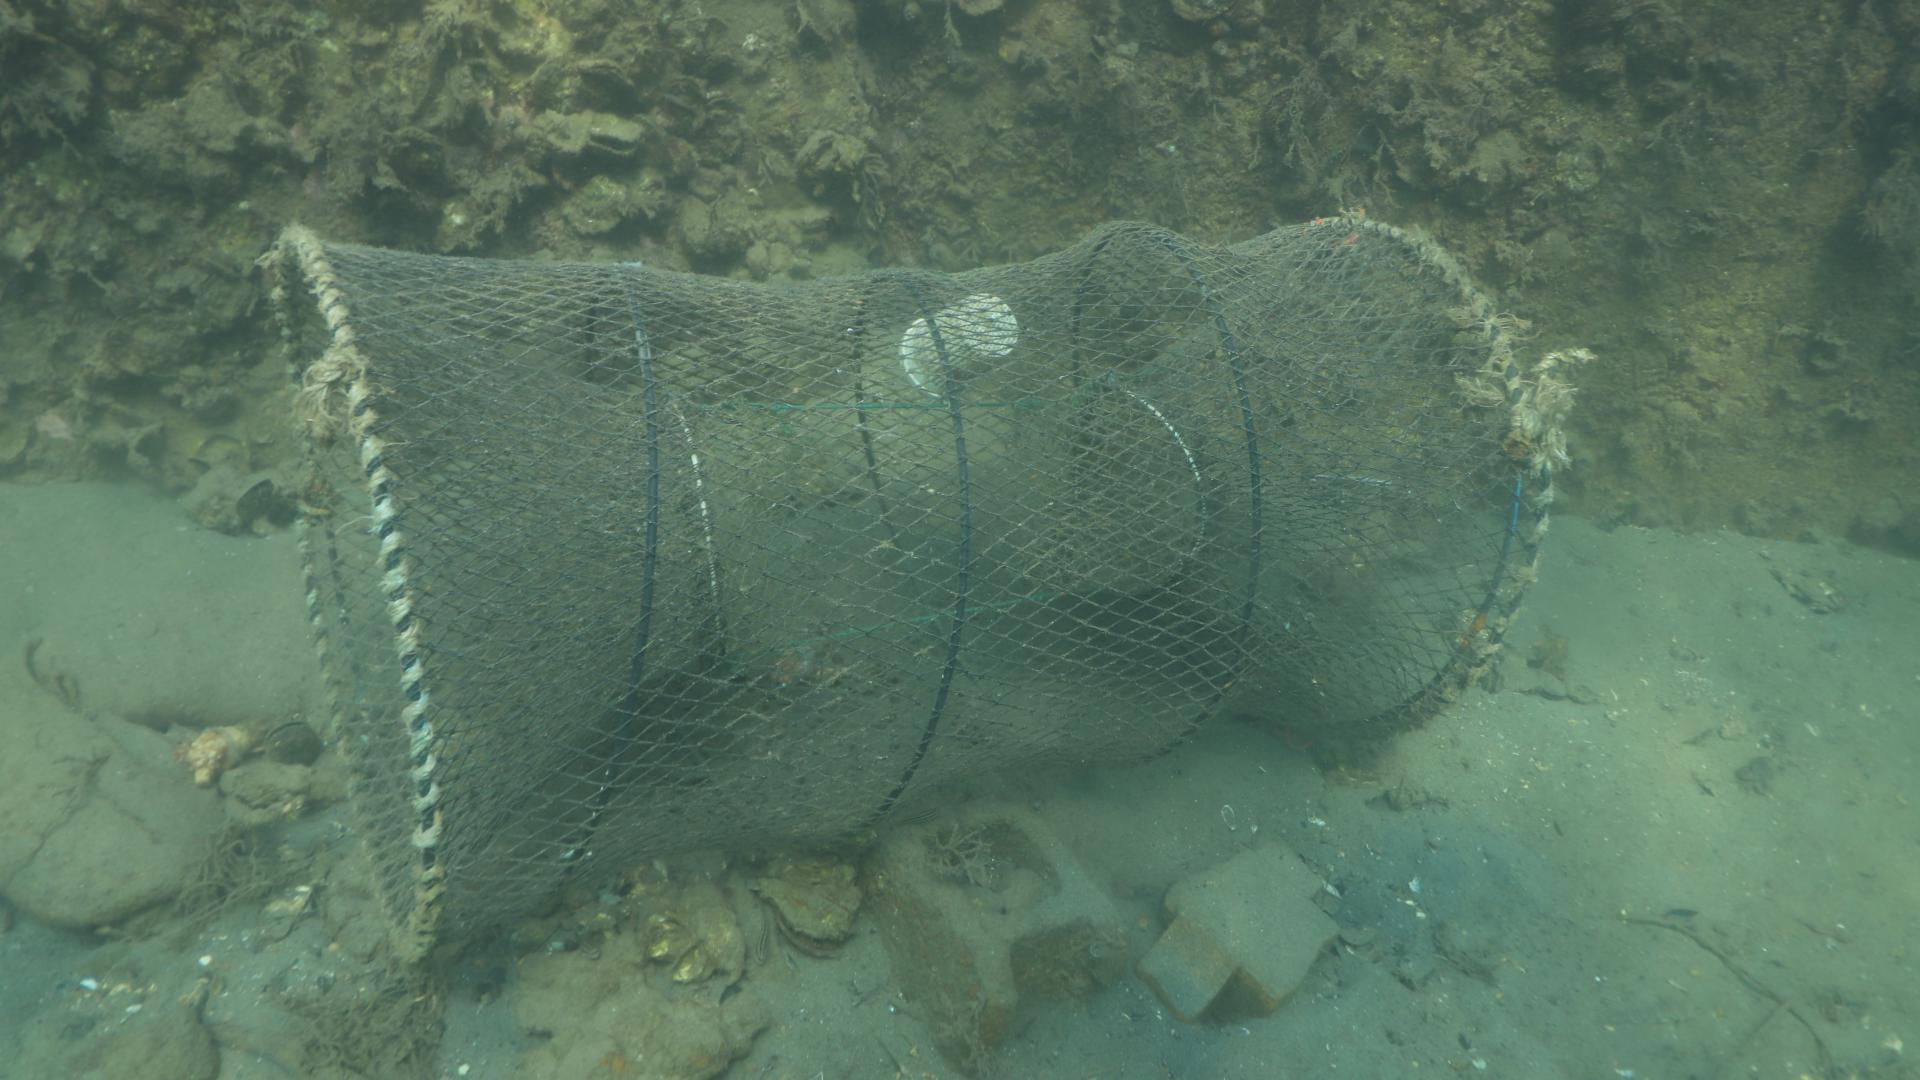spring fish trap: (266, 212, 1549, 960)
